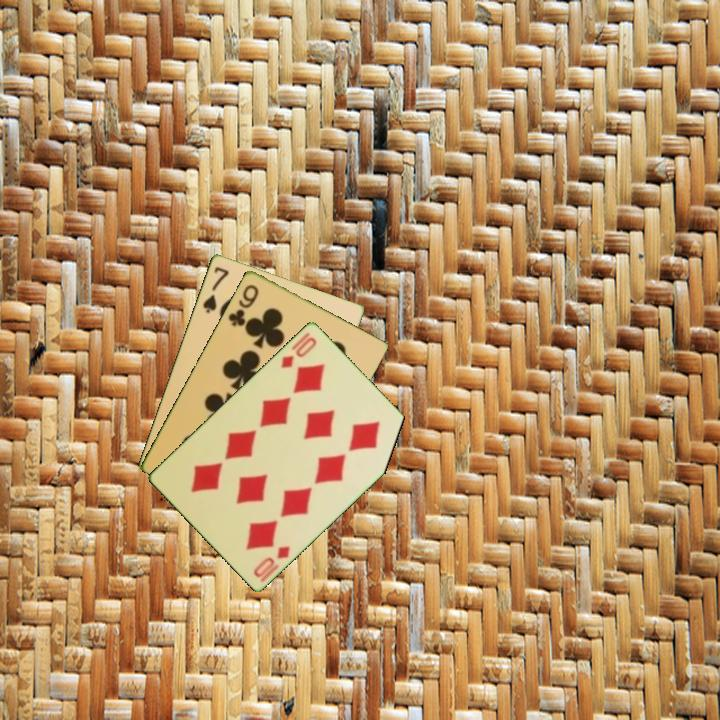10d: (277, 328, 320, 371), (250, 542, 293, 580)
7s: (199, 263, 232, 316)
9c: (224, 280, 262, 329)
